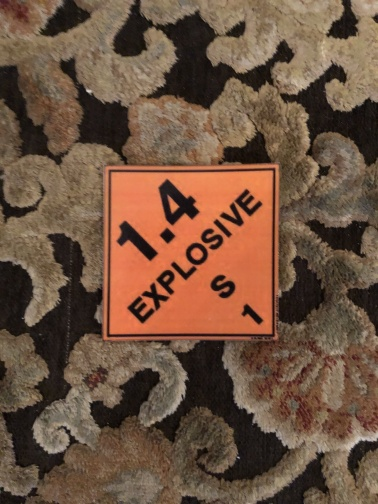Explosive: (103, 166, 277, 337)
